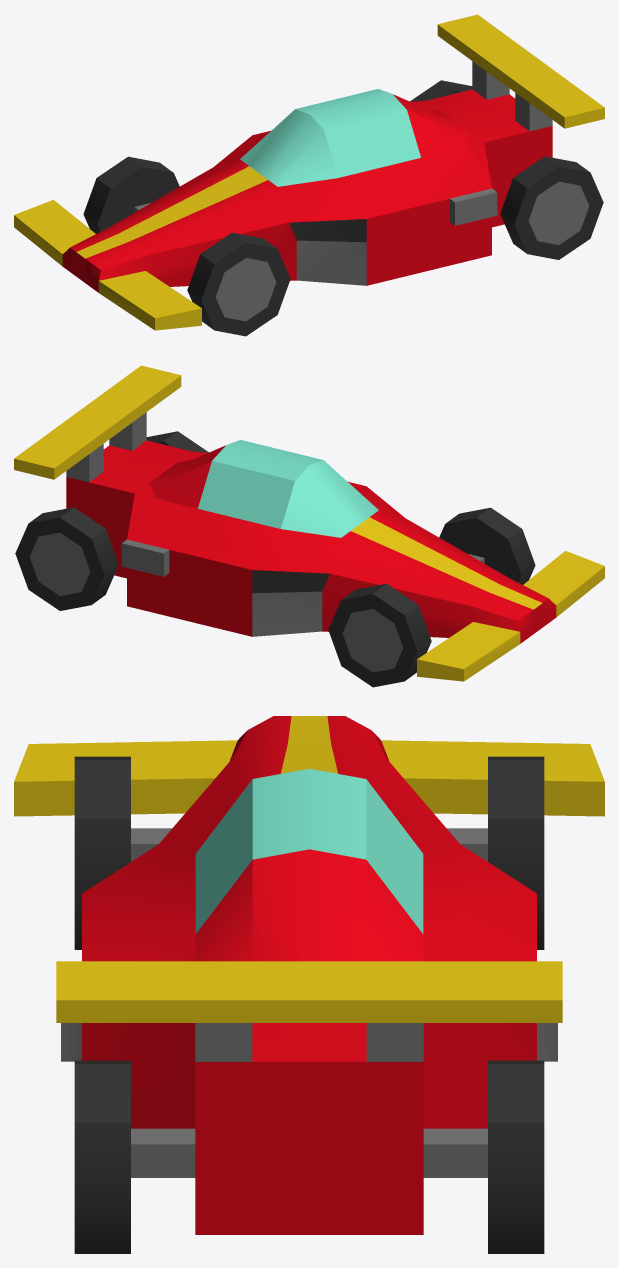
File: loop-racers-car.fbx
The picture shows the model from 3 angles, top to bottom: view 1: azimuth 30°, elevation 25°; view 2: azimuth 150°, elevation 25°; view 3: azimuth 270°, elevation 25°; orthographic projection. The views are drawn at different scales.
Parts seen in each view (by area): view 1: Cube; view 2: Cube; view 3: Cube.
Boxes of the visible parts, box(x1,y1,x2,y2) form: Cube: box(14, 14, 604, 336); Cube: box(14, 365, 604, 687); Cube: box(14, 716, 604, 1253).
Bounding box in the file's own units: 207 × 63.62 × 115.
